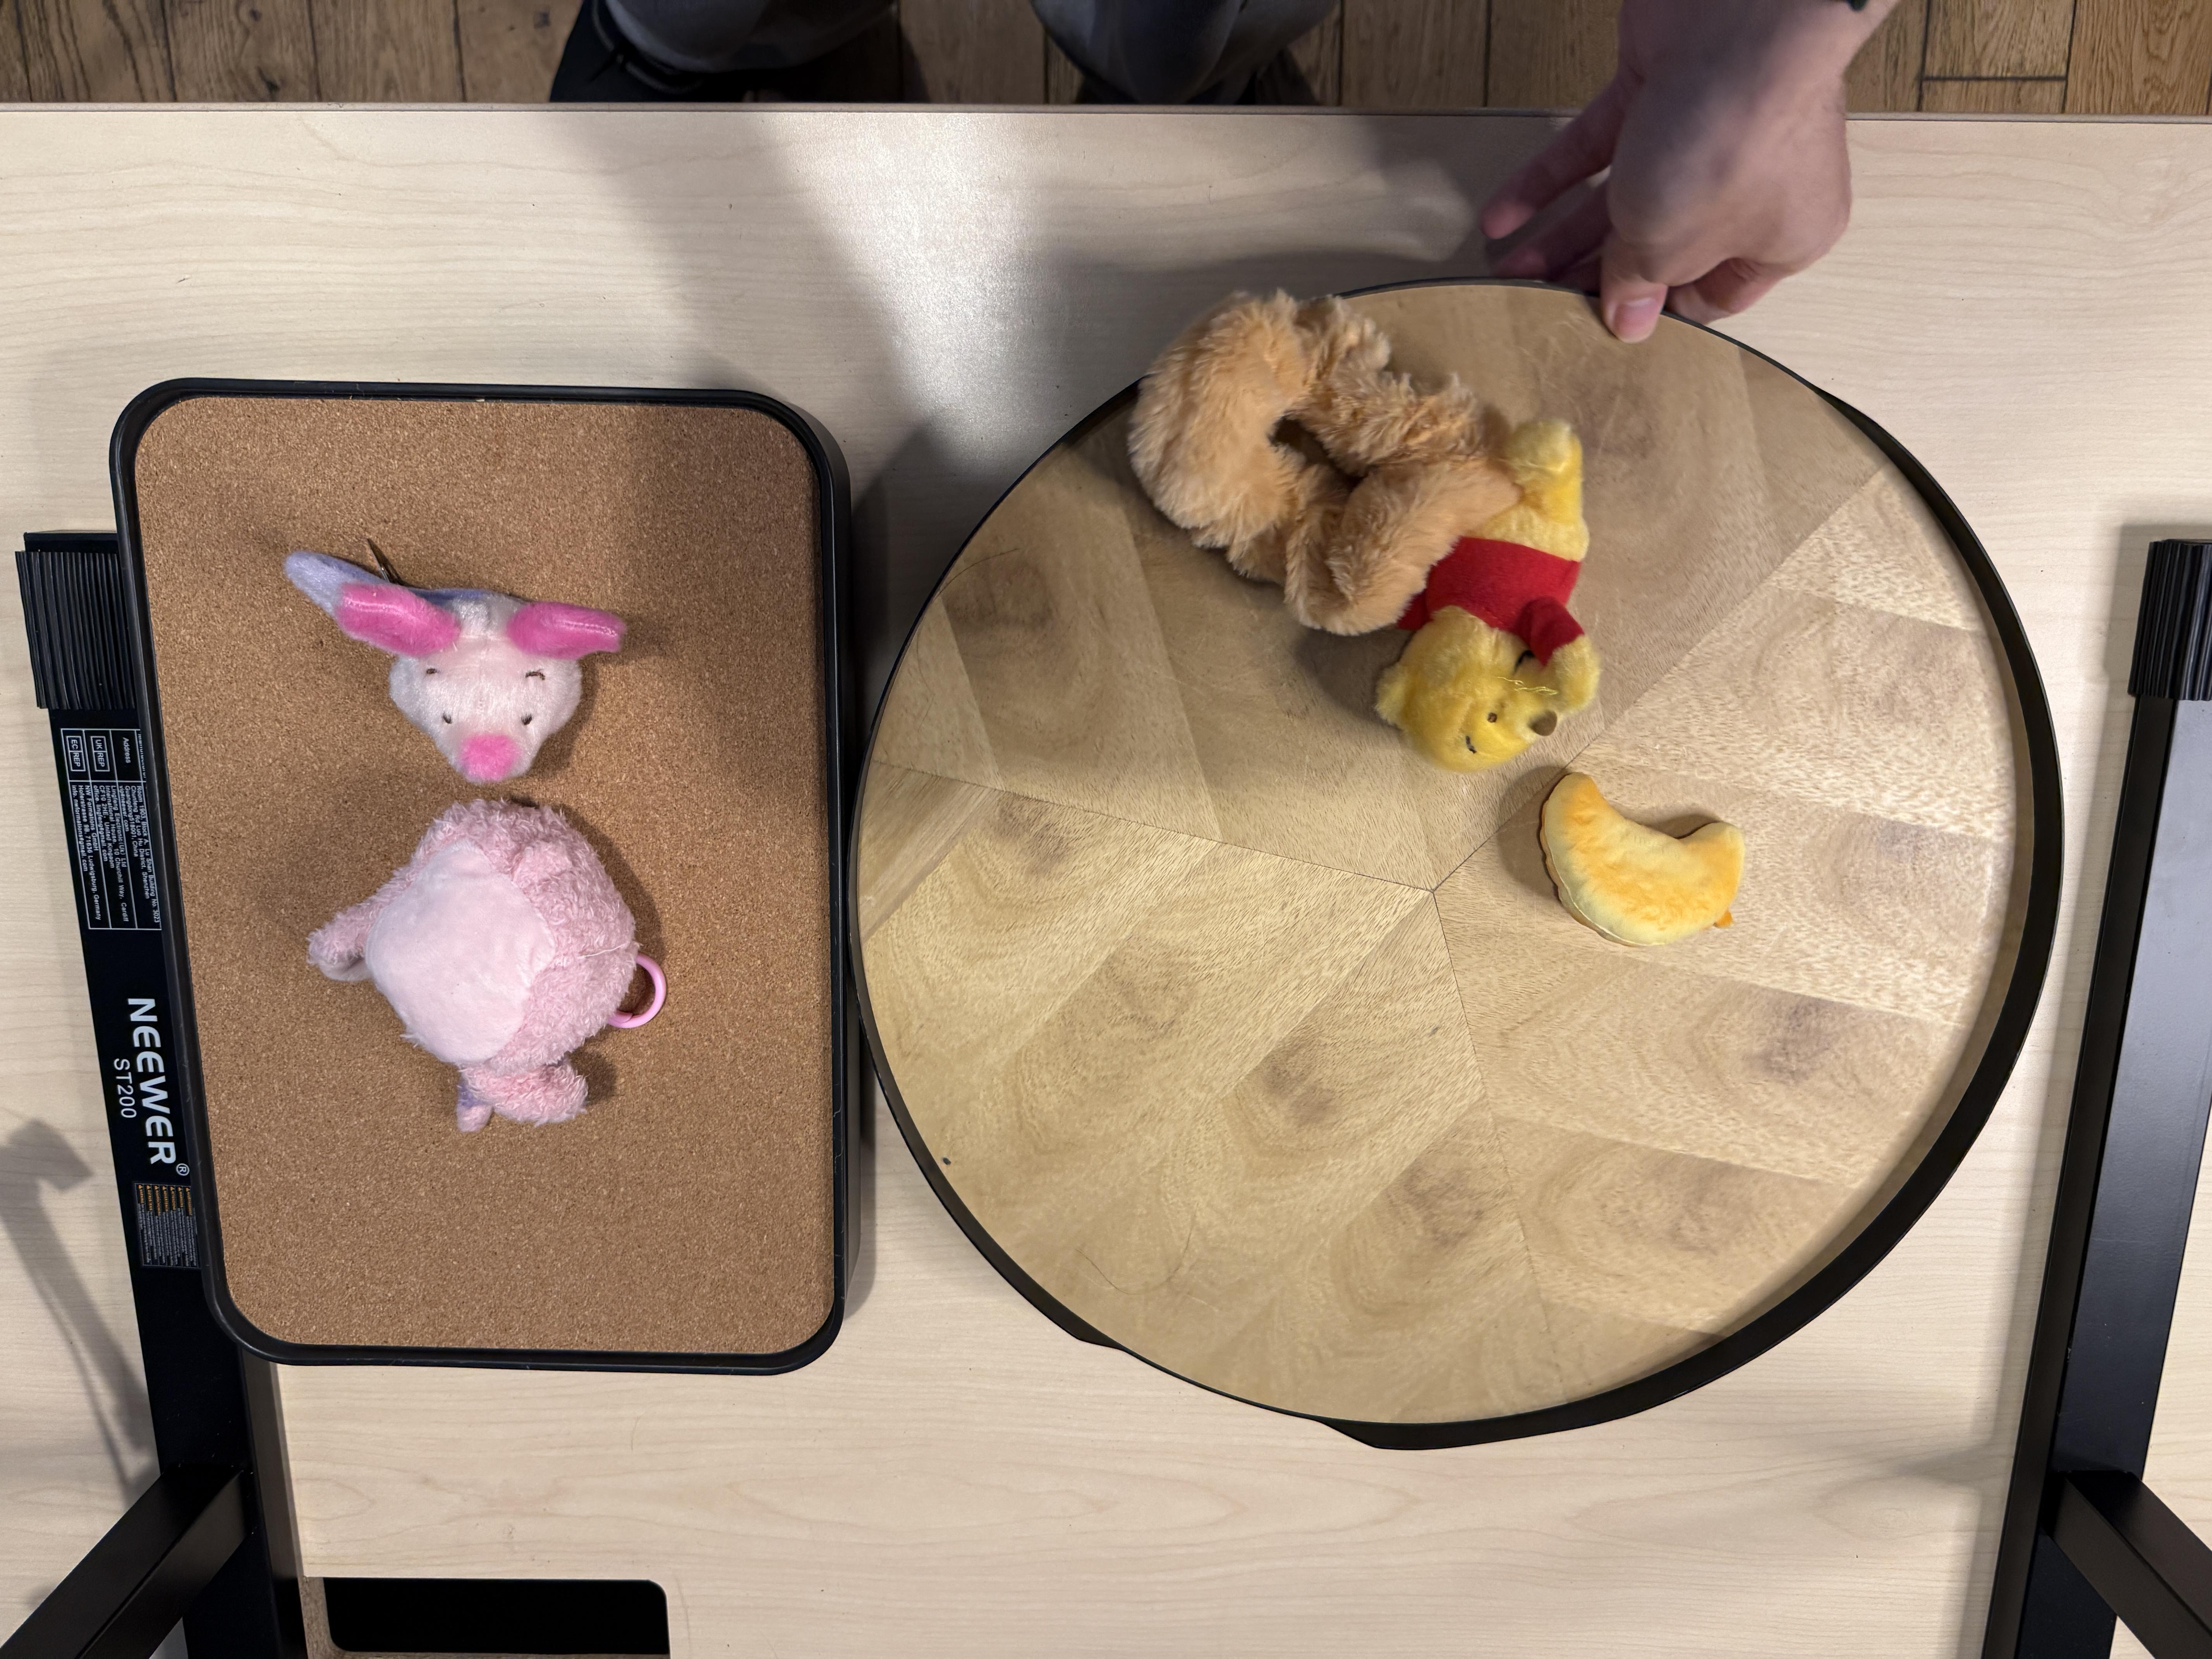bread: (1541, 786, 1743, 948)
doll: (1127, 295, 1616, 758), (322, 798, 676, 1124), (287, 551, 631, 781)
